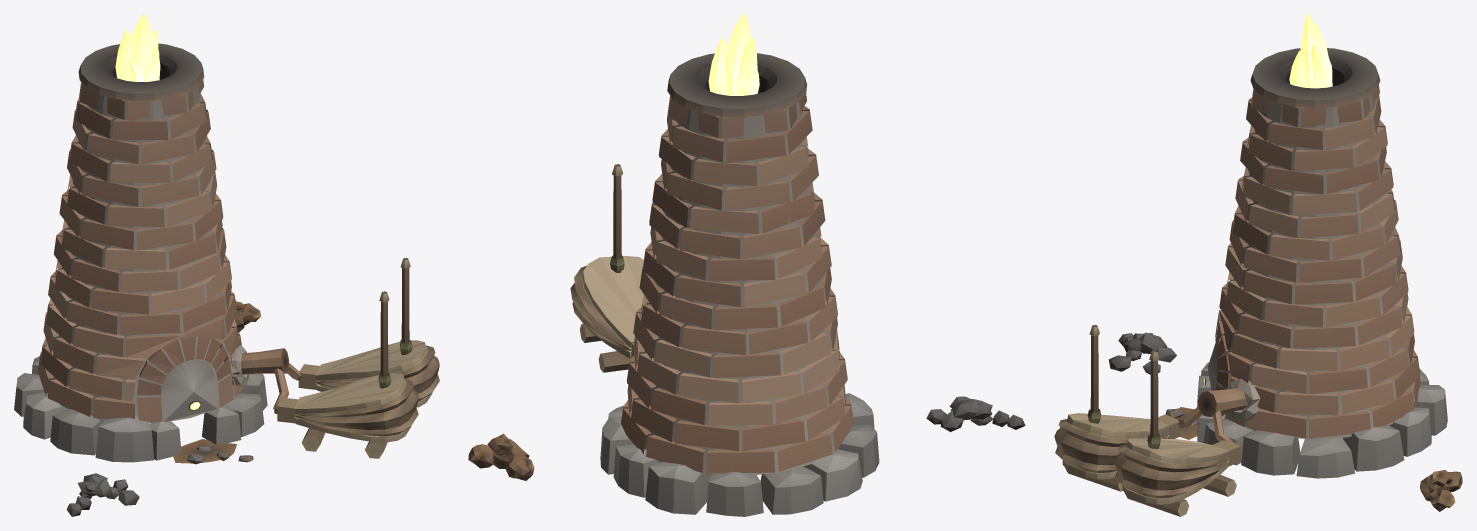
Rendered from furnace_a.glb.
3 renders of one model, left to right at view 1: azimuth 30°, elevation 25°; view 2: azimuth 150°, elevation 25°; view 3: azimuth 270°, elevation 25°, orthographic. The views are drawn at different scales.
Visible parts, largest first — view 1: Base, BellowsL, BellowsR, Flame; view 2: Base, BellowsR, Flame; view 3: Base, BellowsR, BellowsL, Flame.
Part boxes in pixels (x1,y1,x2,y2): Base: [14, 43, 439, 516]; BellowsL: [294, 291, 418, 429]; BellowsR: [315, 258, 439, 393]; Flame: [115, 14, 200, 410]; Base: [468, 53, 1025, 516]; BellowsR: [570, 164, 644, 350]; Flame: [708, 14, 759, 95]; Base: [1055, 48, 1462, 516]; BellowsR: [1114, 350, 1228, 490]; BellowsL: [1054, 325, 1169, 464]; Flame: [1204, 14, 1332, 384].
Bounding box in the file's own units: 1.84 × 1.82 × 1.64.
